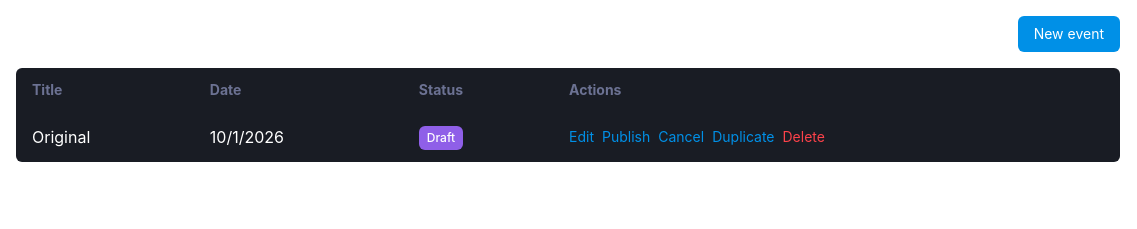
EventList › GIVEN an organizer WHEN clicking Duplicate THEN the new draft is prepended without navigating away
Expected: the number of rows with test id "event-row" is 1, 16,112 -> 1120,162
Click the button "Duplicate" at (743, 137), box 712,127 -> 774,147
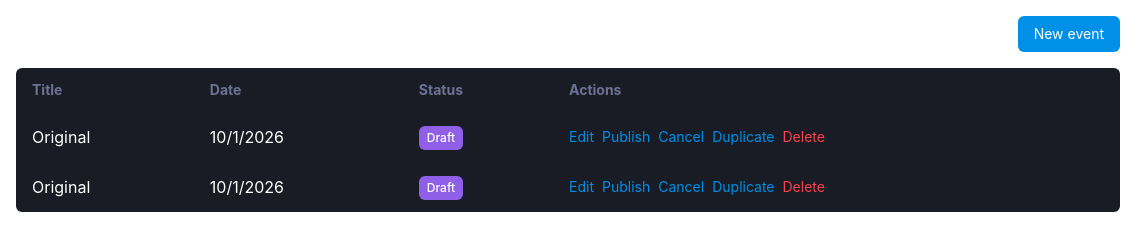
Now the number of rows with test id "event-row" is 2, box 16,112 -> 1120,162; 16,162 -> 1120,212
